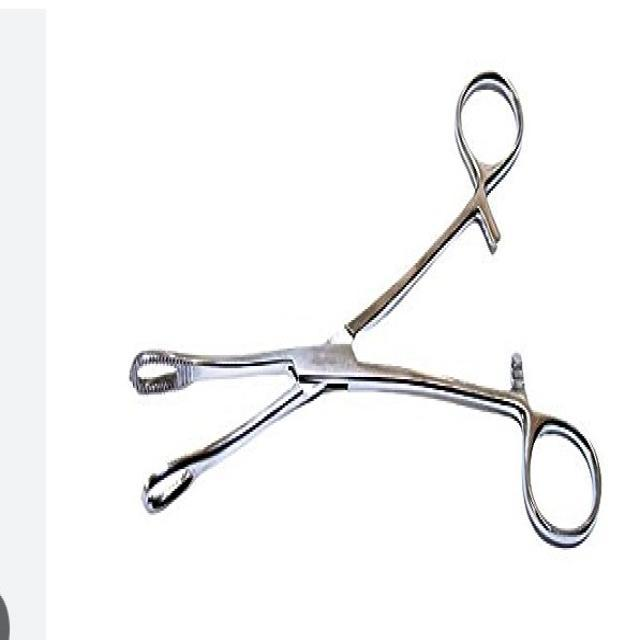Sponge Holding Forceps: (127, 60, 606, 565)
